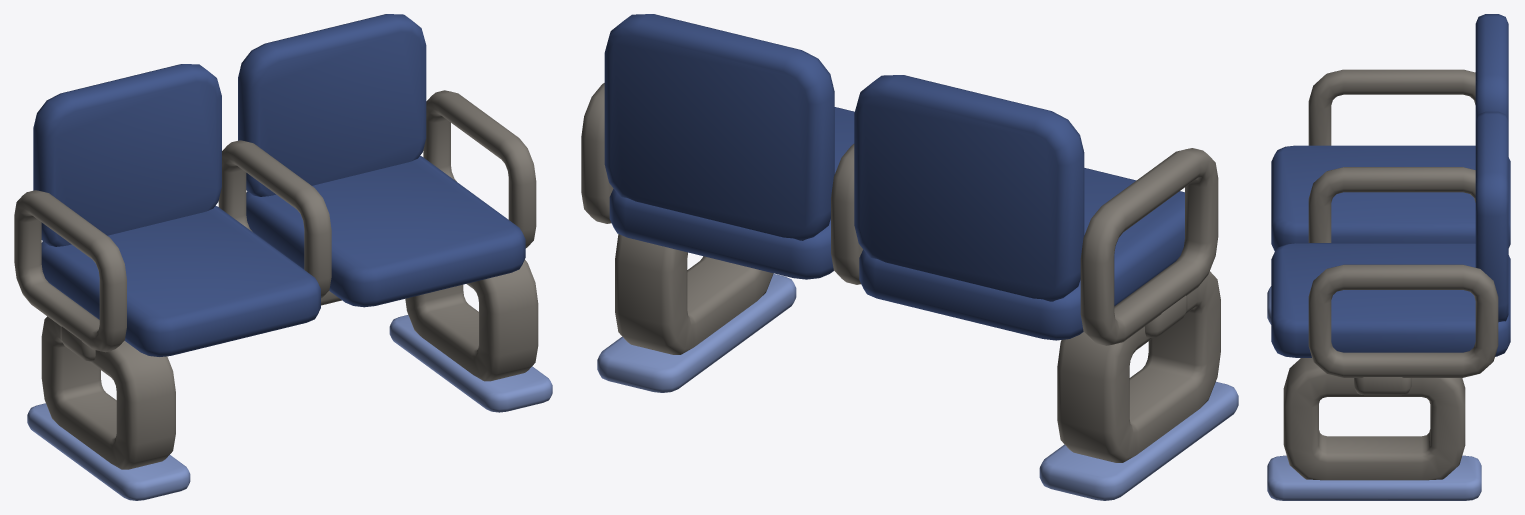
File: banquette_2p.glb
3 renders of one model, left to right at view 1: azimuth 30°, elevation 25°; view 2: azimuth 150°, elevation 25°; view 3: azimuth 270°, elevation 25°, orthographic. The views are drawn at different scales.
Parts seen in each view (by area): view 1: BQ2_Bleu_Moyen, BQ2_Gris_Chaud, BQ2_Bleu_Clair; view 2: BQ2_Bleu_Moyen, BQ2_Gris_Chaud, BQ2_Bleu_Clair; view 3: BQ2_Bleu_Moyen, BQ2_Gris_Chaud, BQ2_Bleu_Clair.
Part boxes in pixels (<box>): BQ2_Bleu_Moyen: <box>33,14,525,356</box>; BQ2_Gris_Chaud: <box>14,90,538,469</box>; BQ2_Bleu_Clair: <box>27,315,552,500</box>; BQ2_Bleu_Moyen: <box>604,14,1184,340</box>; BQ2_Gris_Chaud: <box>581,83,1220,462</box>; BQ2_Bleu_Clair: <box>597,273,1238,500</box>; BQ2_Bleu_Moyen: <box>1271,14,1510,357</box>; BQ2_Gris_Chaud: <box>1283,69,1498,480</box>; BQ2_Bleu_Clair: <box>1267,286,1481,500</box>.
Size of the model in its own units: 1.18 by 0.82 by 0.59.
